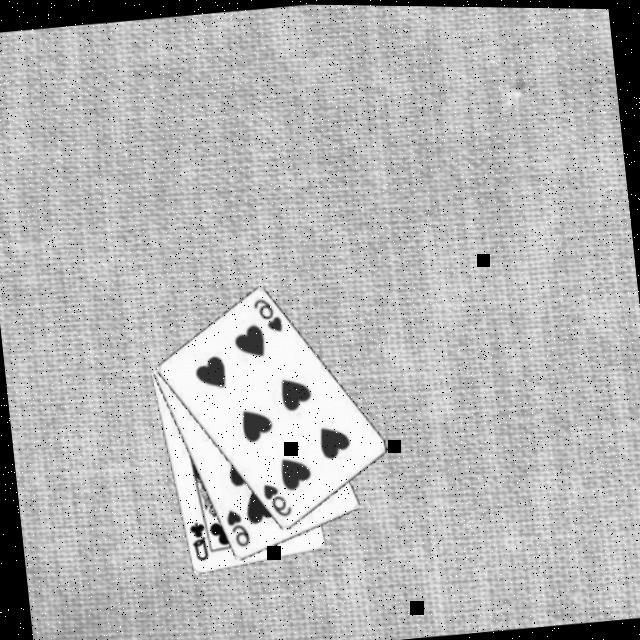6H: (250, 294, 286, 338), (260, 479, 296, 522)
9H: (223, 506, 253, 552)
QC: (186, 520, 212, 566)
